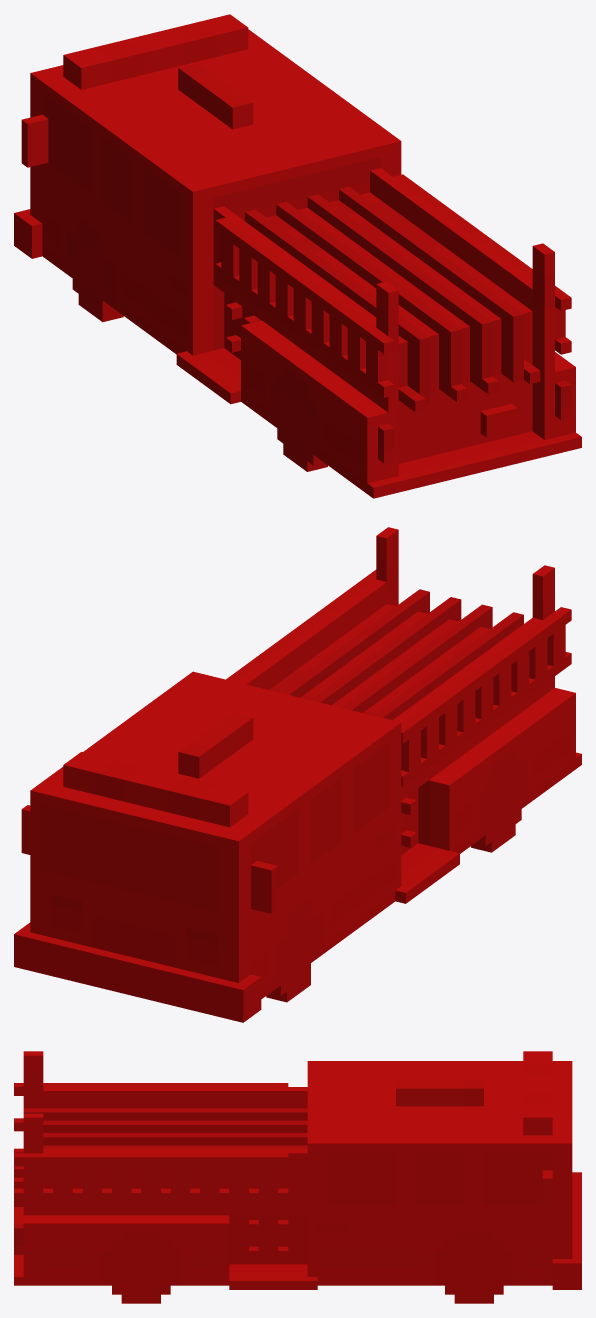
Rendered from veh_fire.obj.
The picture shows the model from 3 angles, top to bottom: view 1: azimuth 30°, elevation 25°; view 2: azimuth 150°, elevation 25°; view 3: azimuth 270°, elevation 25°; orthographic projection. The views are drawn at different scales.
Size of the model in its own units: 24 by 20 by 58.
